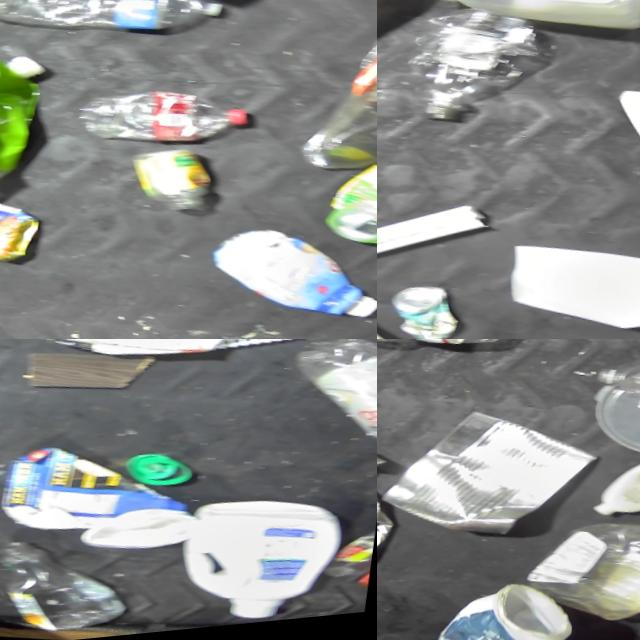can: (377, 395, 596, 557), (315, 159, 377, 265), (380, 276, 483, 339)
milk_jug: (426, 0, 640, 58)
non_white_jug: (0, 41, 54, 203)
plastic_bottle: (401, 0, 556, 149), (77, 79, 252, 168), (0, 0, 243, 59), (0, 538, 132, 640), (281, 339, 377, 462), (377, 339, 525, 373)
